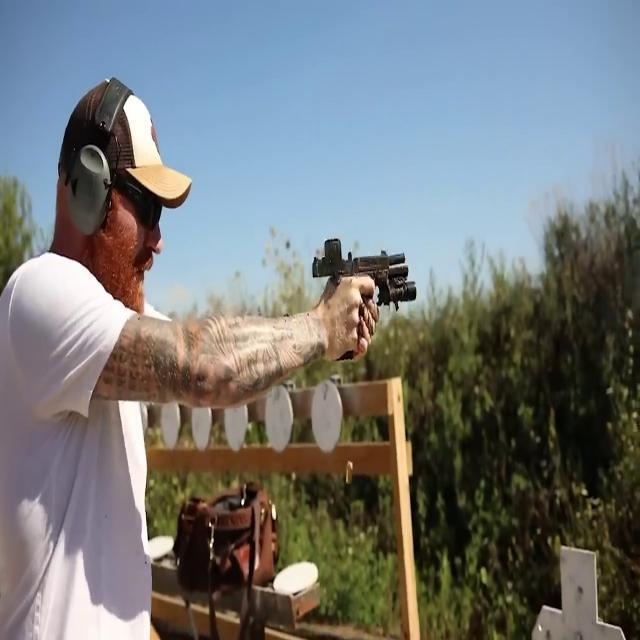Handgun: (307, 231, 429, 365)
